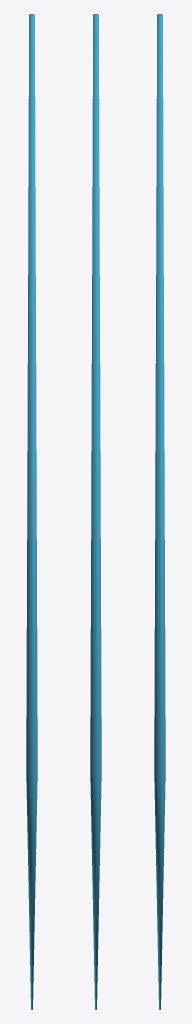
The model's file is SM_thunderstorm_rain.fbx.
3 views of the same model, side by side, from view 1: azimuth 30°, elevation 25°; view 2: azimuth 150°, elevation 25°; view 3: azimuth 330°, elevation 25° (orthographic).
Parts seen in each view (by area): view 1: SM_thunderstorm_rain; view 2: SM_thunderstorm_rain; view 3: SM_thunderstorm_rain.
Part boxes in pixels (x1,y1,x2,y2): SM_thunderstorm_rain: (26,14,37,1009); SM_thunderstorm_rain: (90,14,101,1009); SM_thunderstorm_rain: (154,14,165,1009).
Bounding box in the file's own units: 0.012 × 0.0104 × 1.
